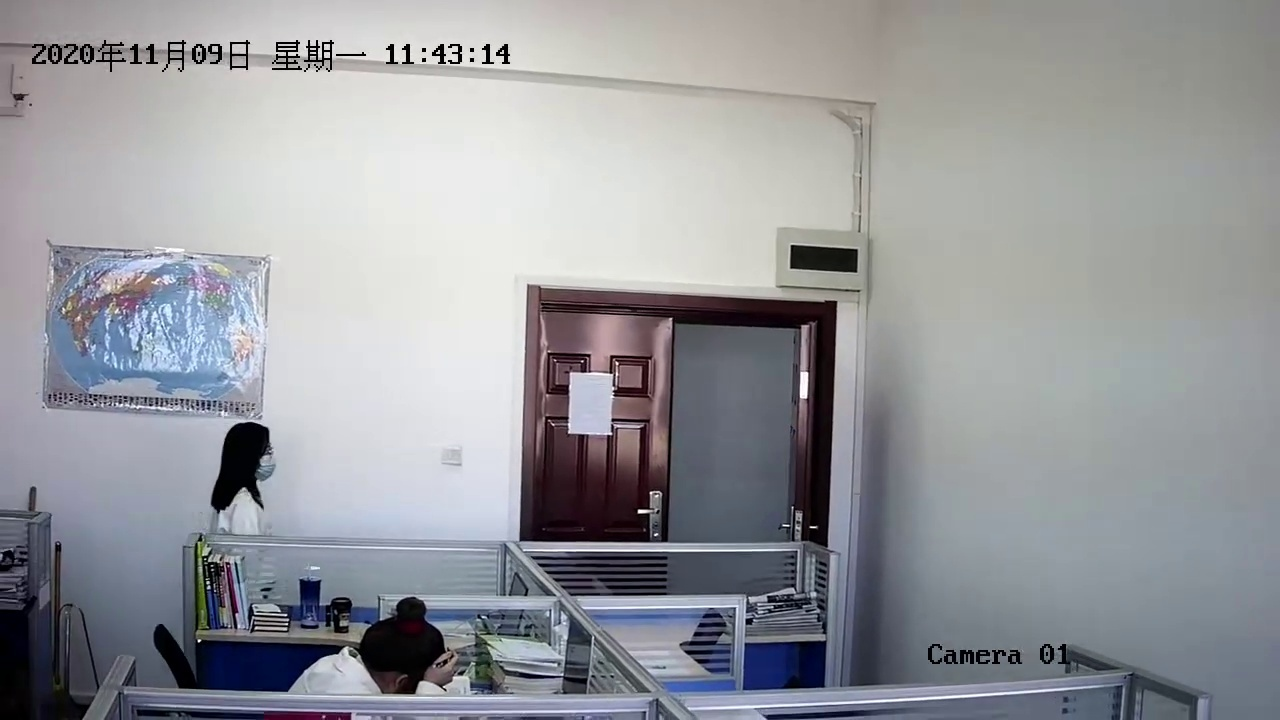mask: (228, 428, 280, 484)
